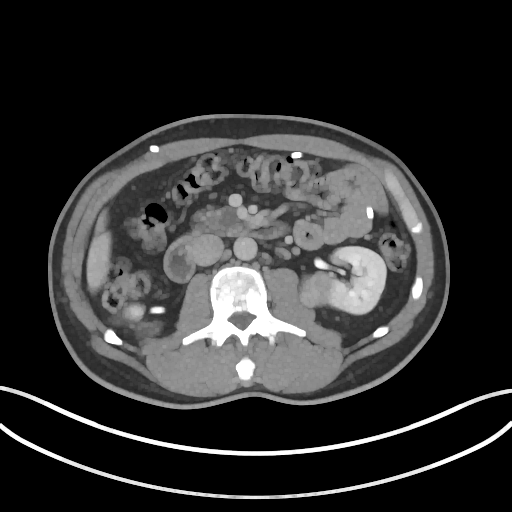Lesion: (294, 269, 338, 311)
